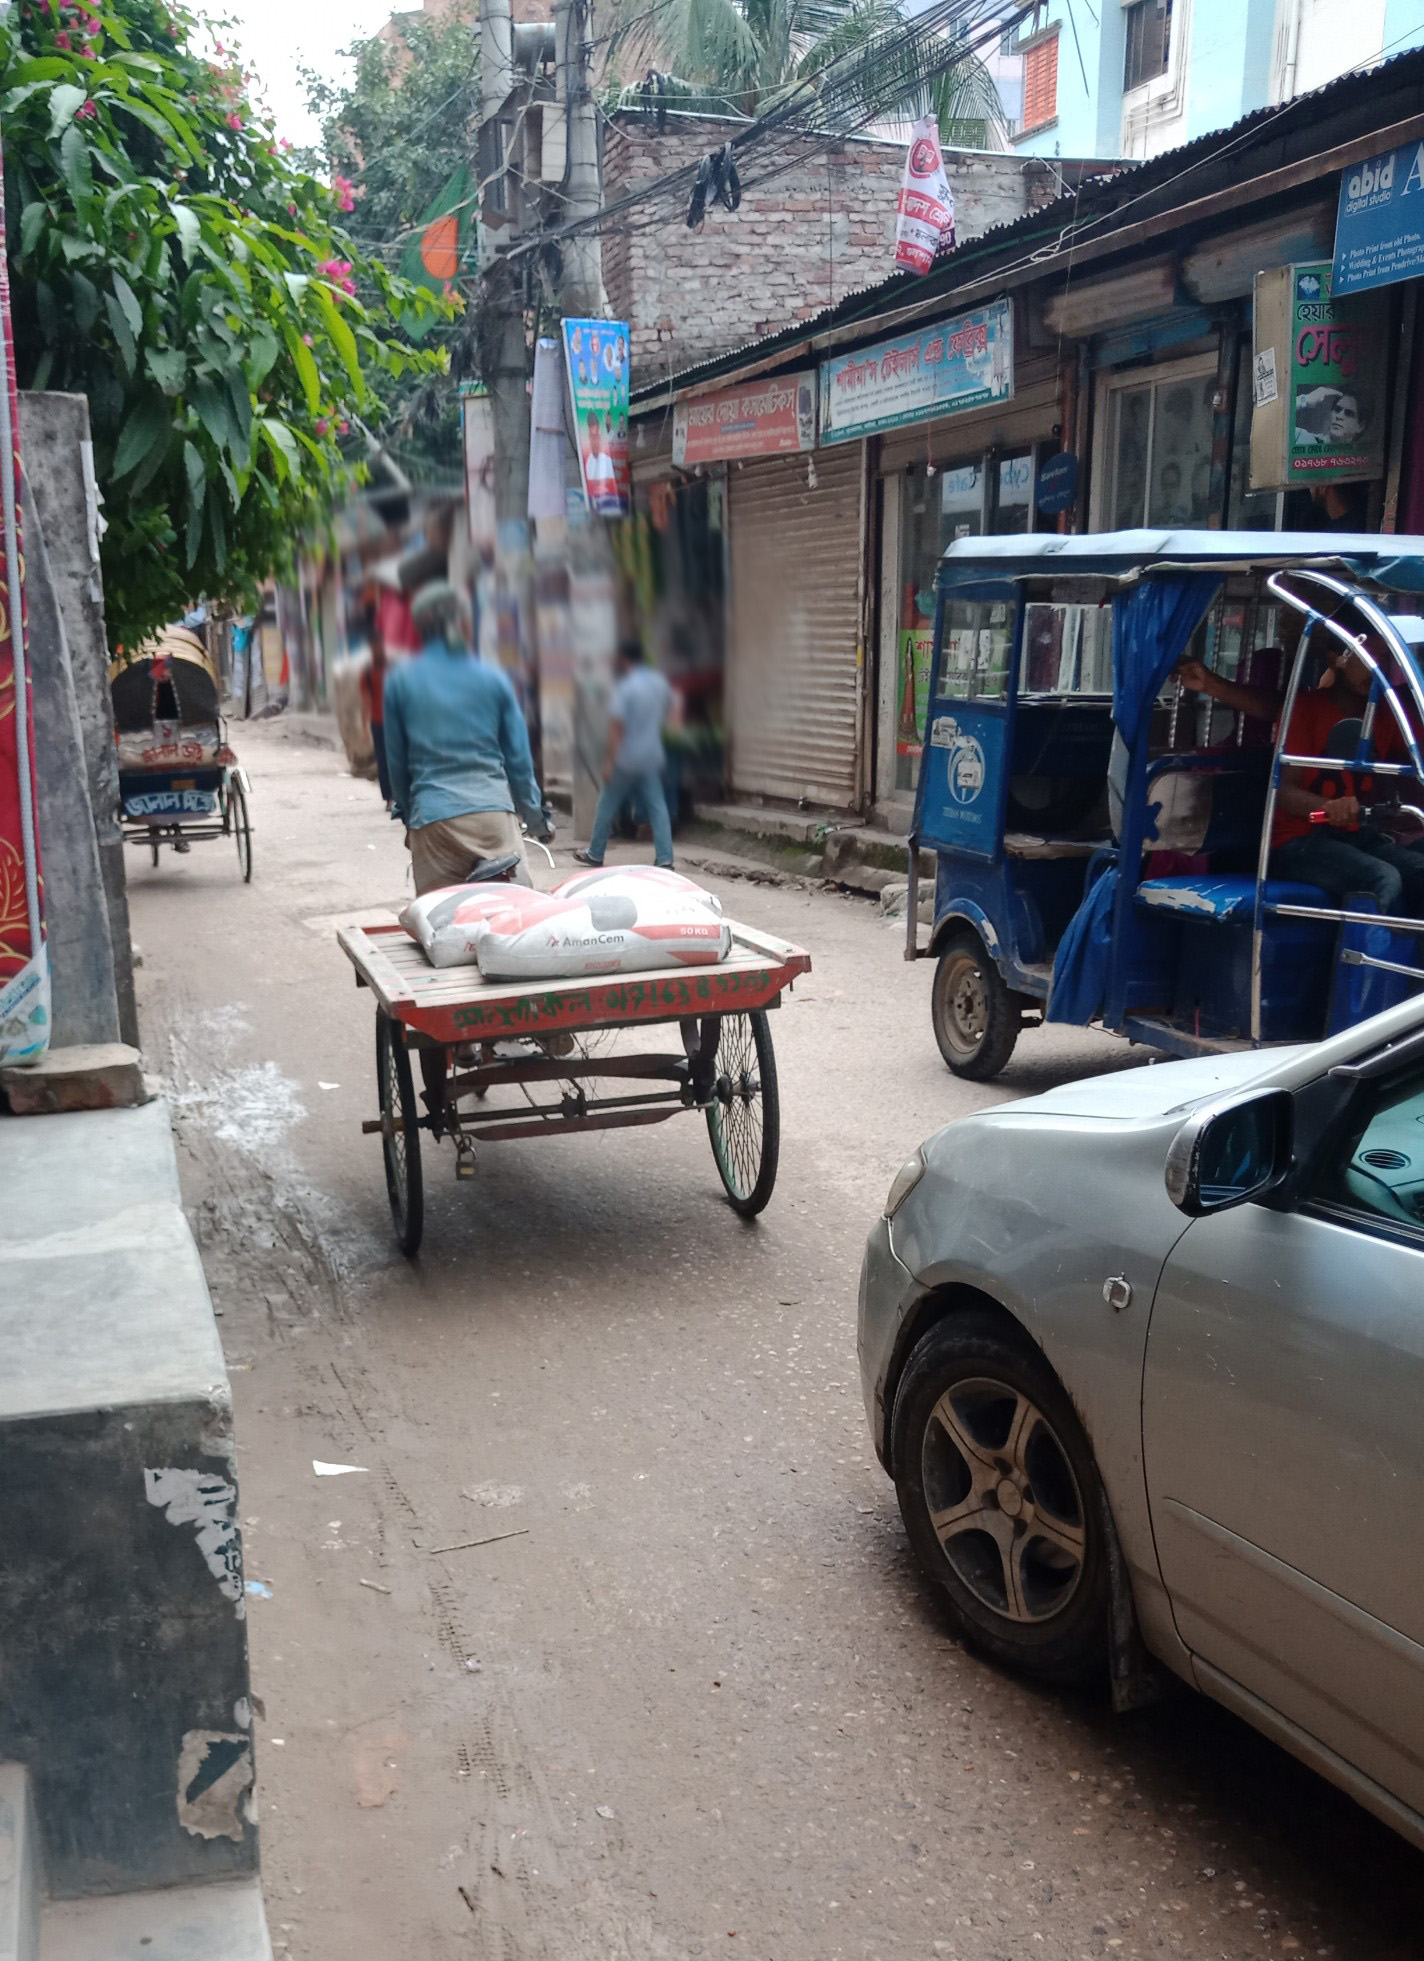car: (854, 952, 1416, 1864)
easybike: (908, 472, 1424, 1075)
rickshaw: (101, 627, 268, 898)
van: (332, 878, 804, 1241)
